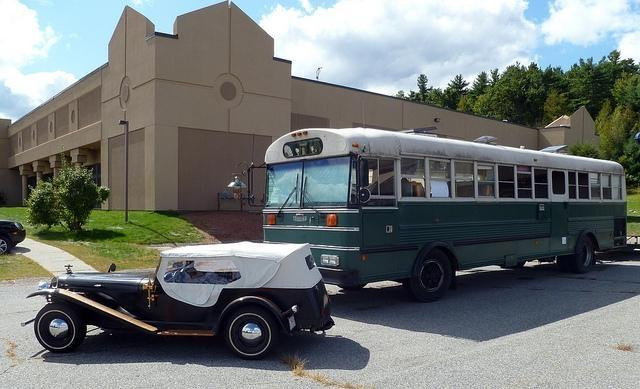bus: (263, 127, 628, 303)
car: (24, 244, 336, 356), (0, 219, 27, 255)
